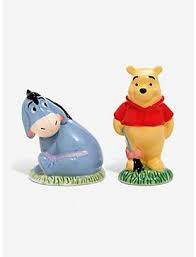Winnie: (113, 60, 170, 125)
